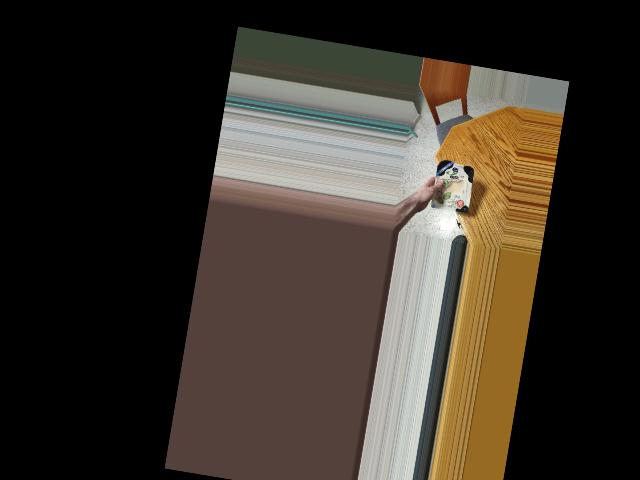cheese: (427, 158, 475, 216)
